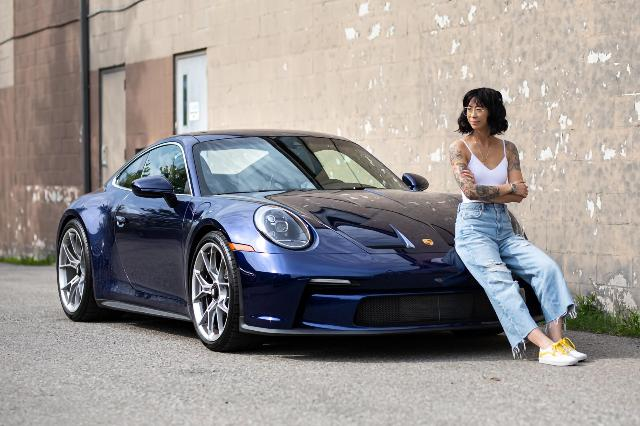porsche: (56, 130, 548, 352)
